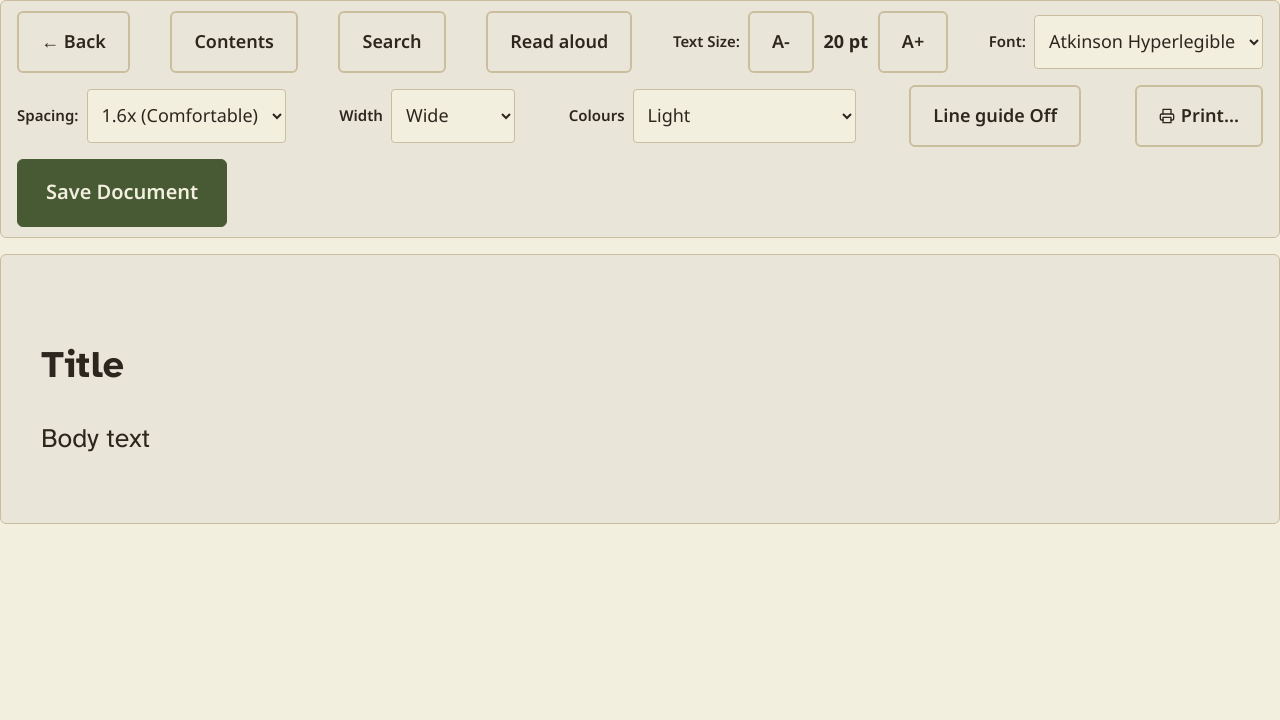
Test: ReaderView › renders document blocks and supports text-size controls (OUT-002)
Check: the heading "Title" is shown, box [41,342,124,388]
Click the button named "increase text size" at (913, 42), box [878,11,948,73]
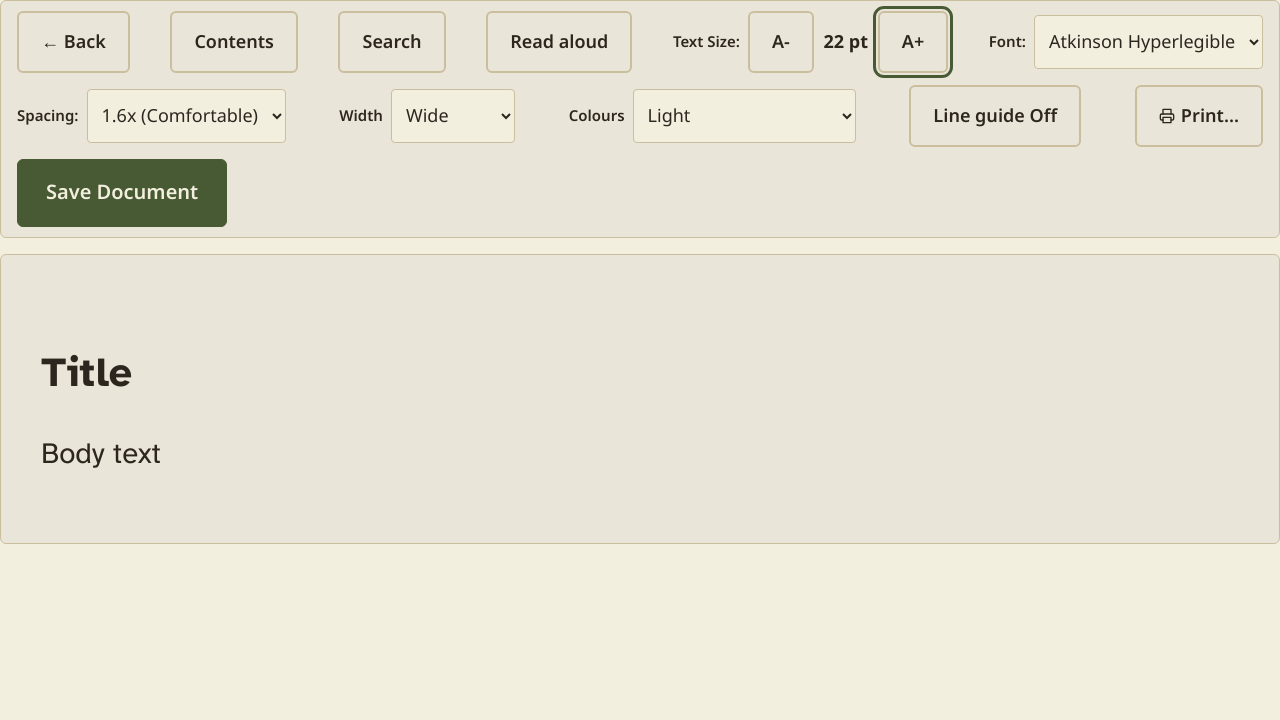
Check: the text "22 pt" is shown, box [822,28,870,56]
